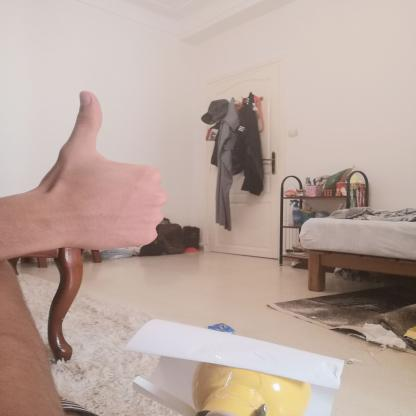ALIF: (27, 80, 180, 270)
